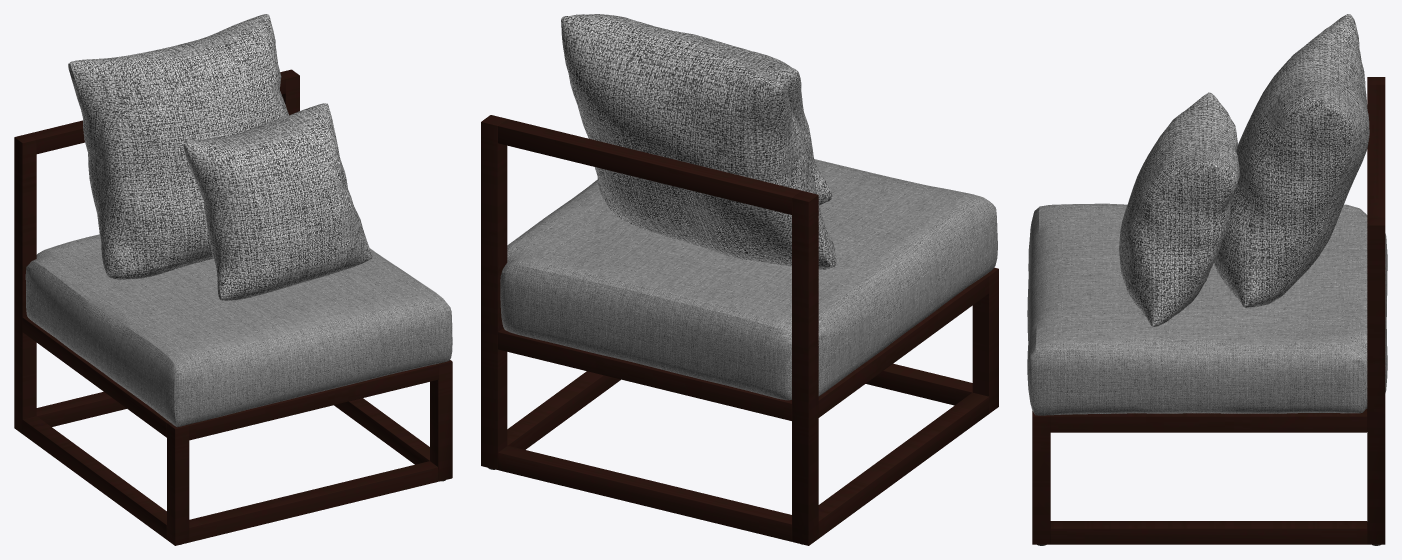
The picture shows the model from 3 angles, left to right: view 1: azimuth 30°, elevation 25°; view 2: azimuth 150°, elevation 25°; view 3: azimuth 270°, elevation 25°; orthographic projection. The views are drawn at different scales.
Parts seen in each view (by area): view 1: C-skp6C16; view 2: C-skp6C16; view 3: C-skp6C16.
Boxes of the visible parts, x1,y1,x2,y2 form: C-skp6C16: (14, 14, 452, 545); C-skp6C16: (481, 14, 998, 545); C-skp6C16: (1027, 14, 1387, 545).
Size of the model in its own units: 0.6448 by 0.8148 by 0.6421.
Materials: 4 (3 with a texture image).
